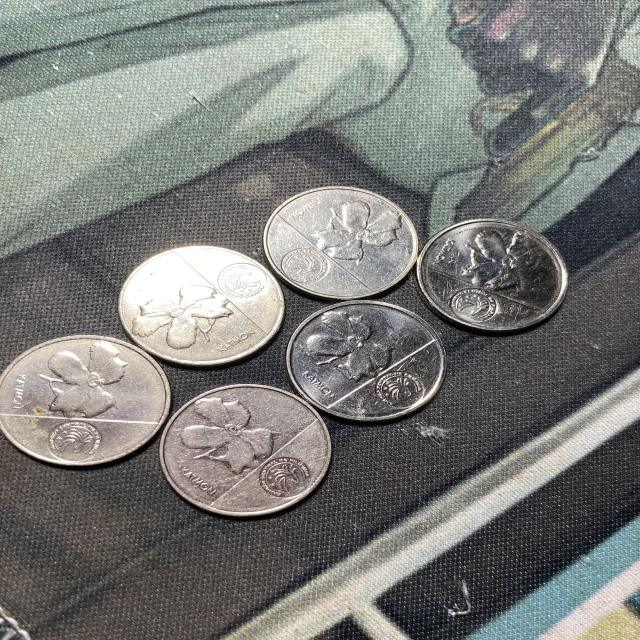25Cent_New_Back: (121, 270, 250, 362), (30, 339, 154, 420), (167, 386, 279, 469), (457, 224, 570, 303), (292, 306, 393, 376), (312, 199, 406, 271)
